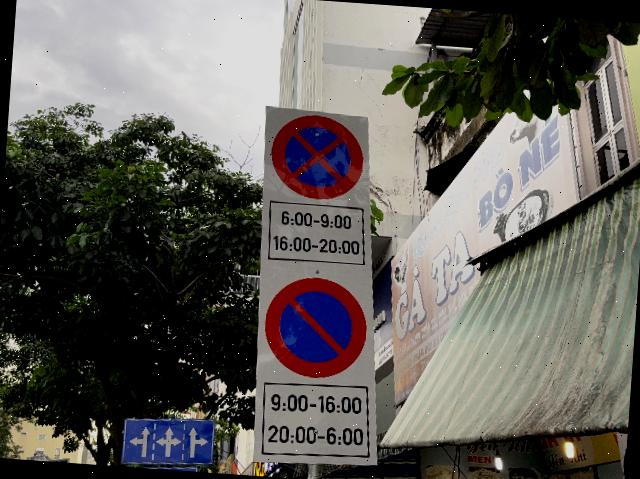cam-do-xe: (260, 274, 368, 382)
cam-dung-va-do-xe: (267, 111, 367, 202)
